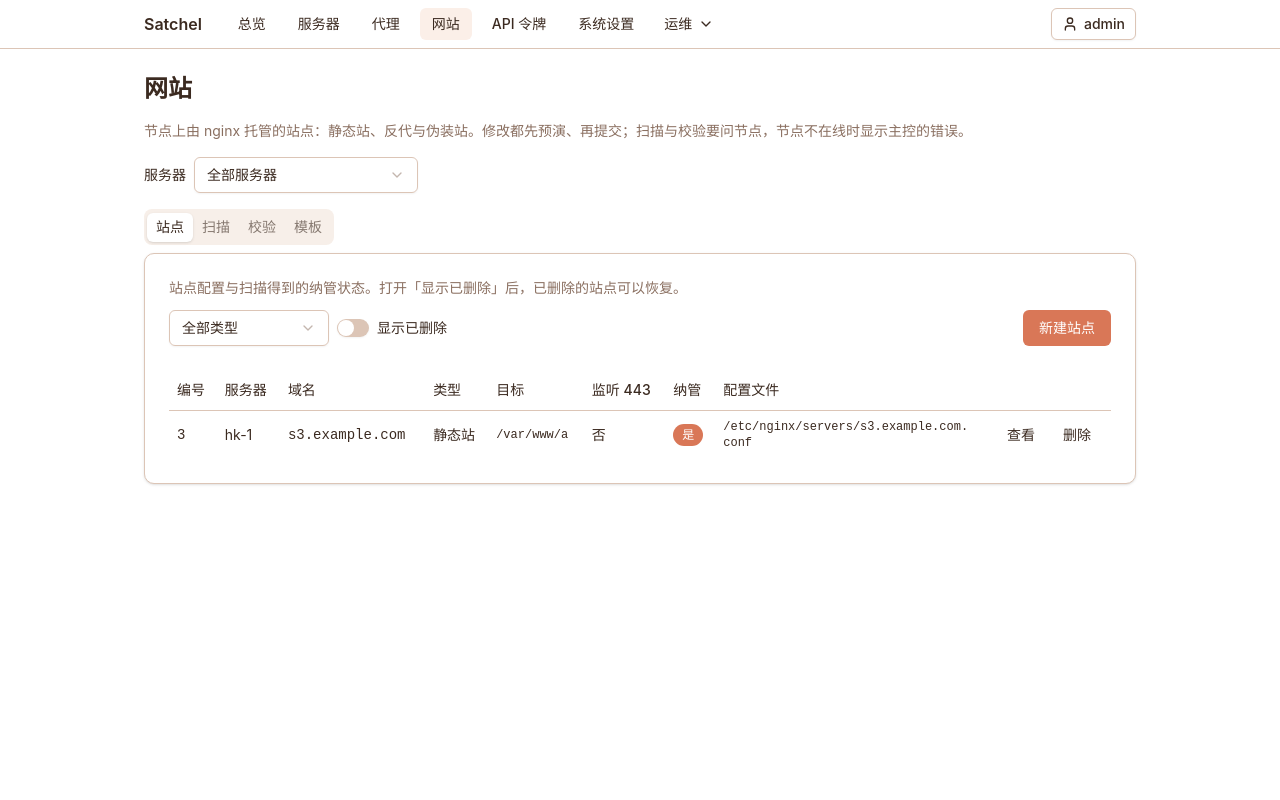
网站页：站点 › 编辑站点只发改过的字段；没有改动时提示、不发请求；详情显示纳管状态与证书编号
Click the button "查看": point(1021, 434) top-left (995, 418), bottom-right (1047, 450)
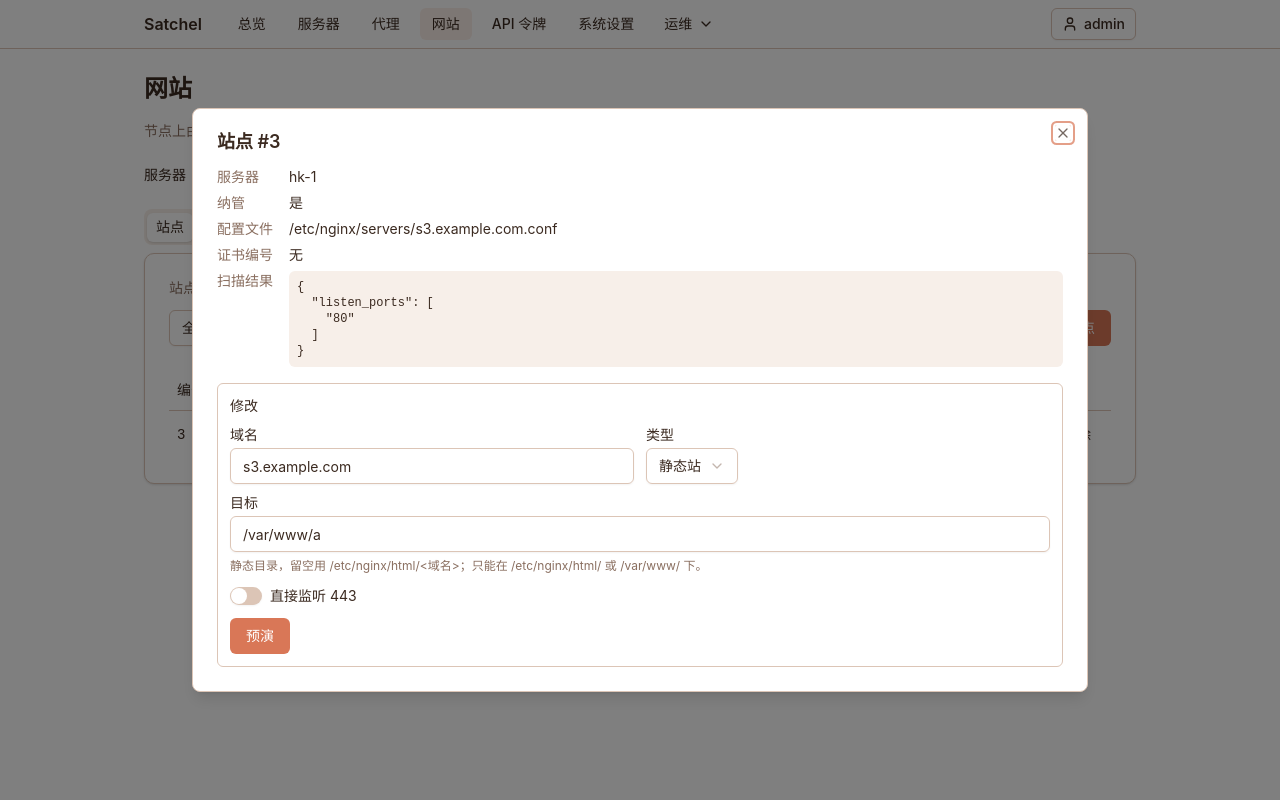
Expected: the text "/etc/nginx/servers/s3.example.com.conf" is shown, top-left (289, 220), bottom-right (558, 237)
Expected: the text "{ \"listen_ports\": [ \"80\" ] }" is shown, top-left (289, 271), bottom-right (1063, 367)
Click the button "预演": point(260, 636) top-left (230, 618), bottom-right (290, 654)
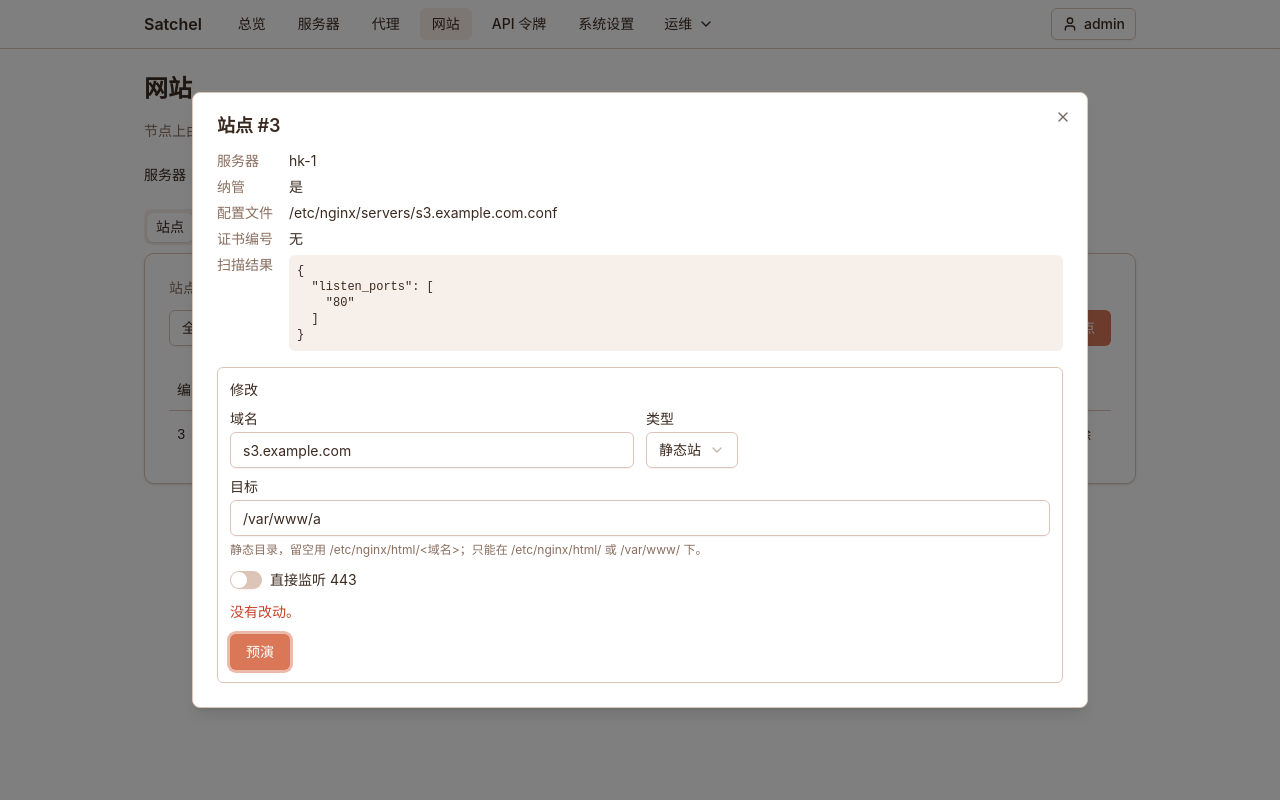
Expected: the text "没有改动。" is shown, top-left (230, 603), bottom-right (300, 620)
Replace the text in the field labelled "目标" with " /var/www/b ": point(640, 518) top-left (230, 500), bottom-right (1050, 536)
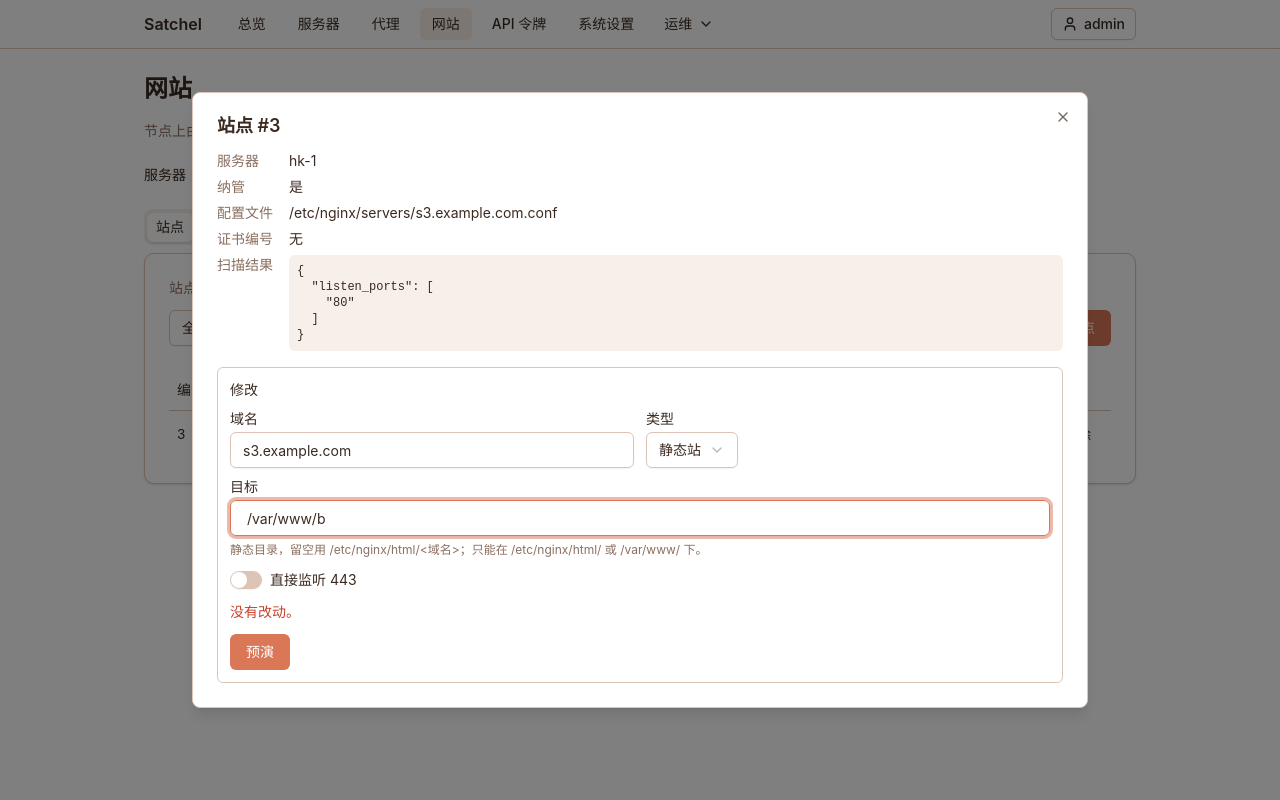
Click the button "预演": point(260, 652) top-left (230, 634), bottom-right (290, 670)
(page scrolled)
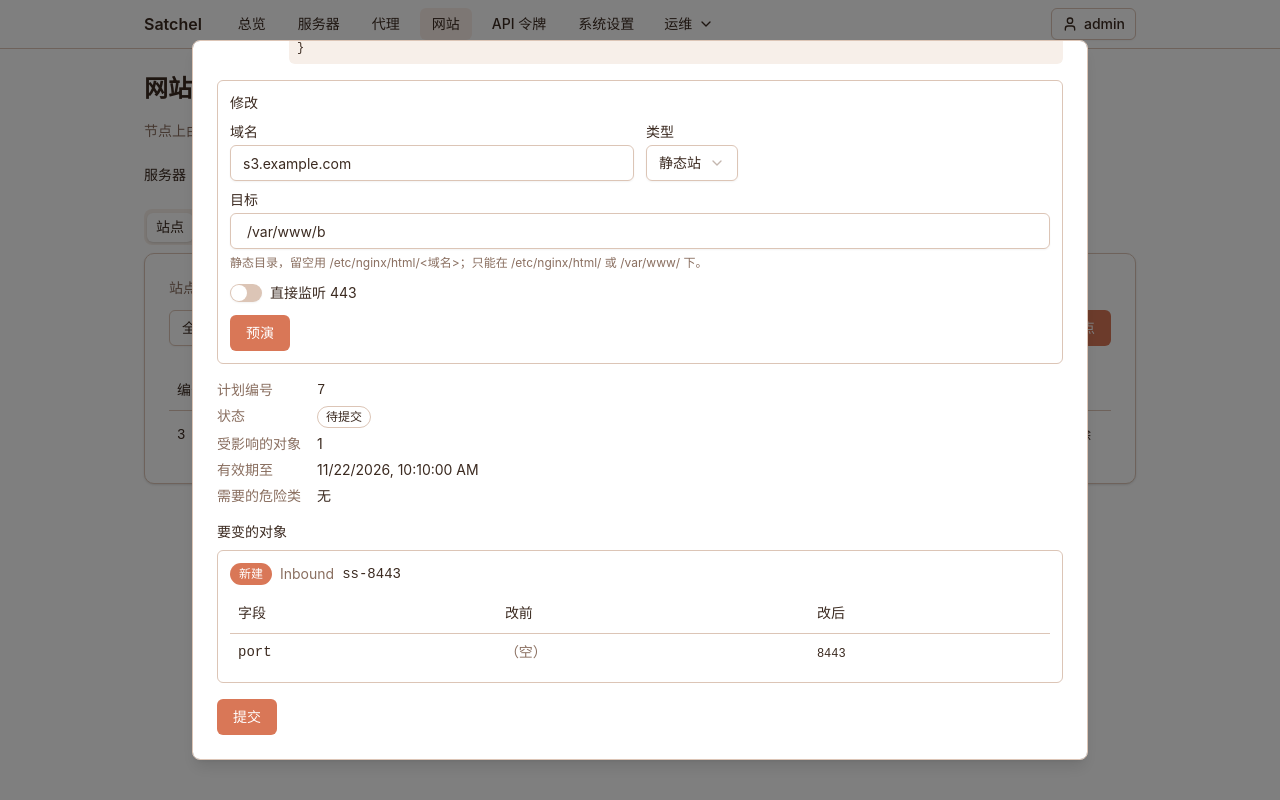
Expected: the element with test id "plan-review" is shown, top-left (217, 380), bottom-right (1063, 734)
